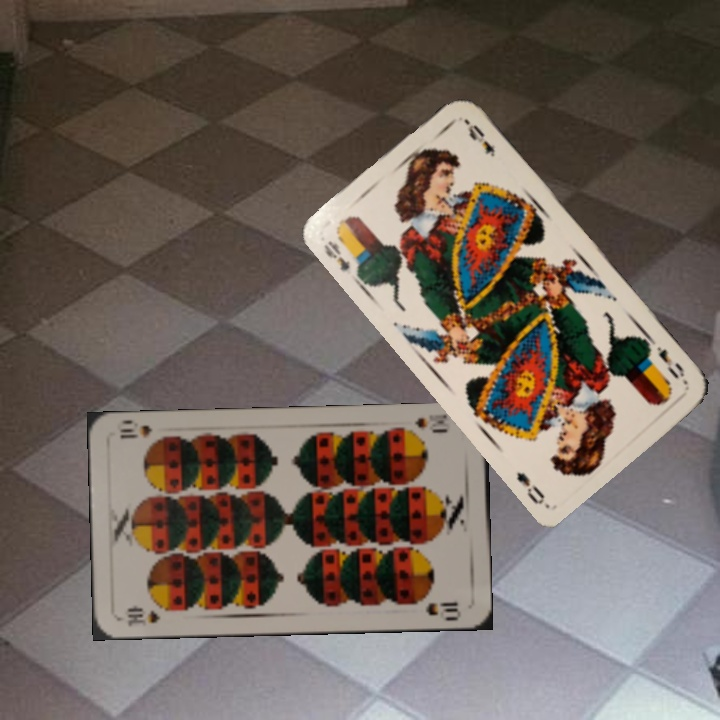EO: (652, 342, 688, 382), (319, 236, 353, 274)
S10: (123, 603, 163, 629), (410, 410, 450, 436)
